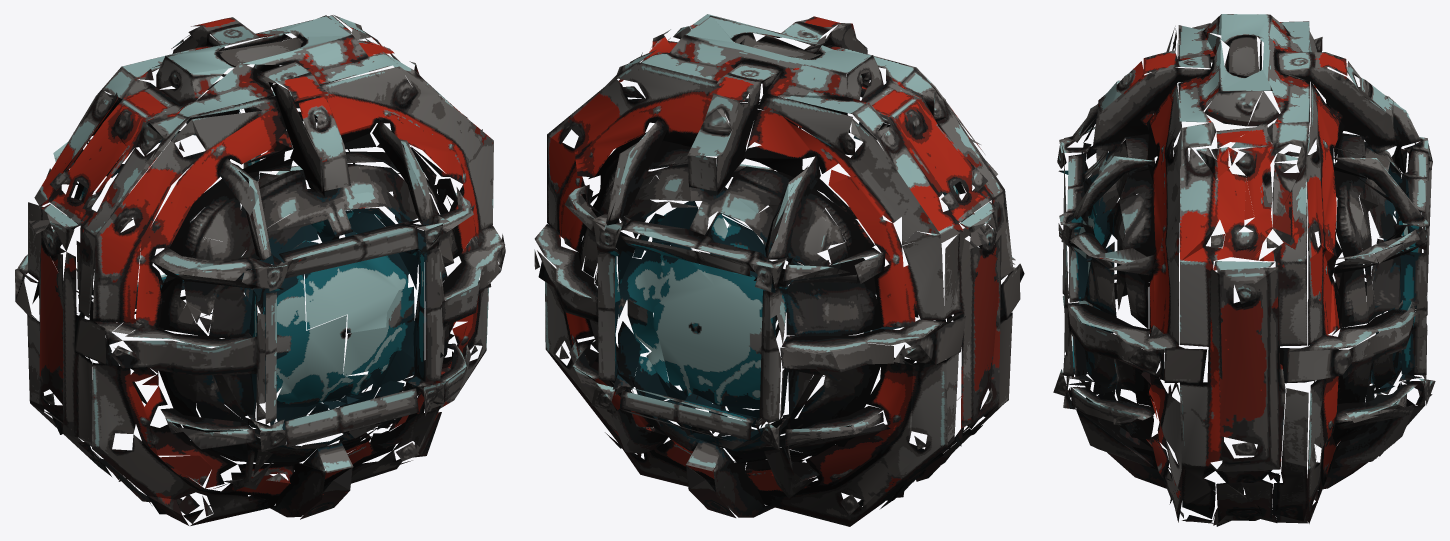
File: co_arc.glb
3 views of the same model, side by side, from view 1: azimuth 30°, elevation 25°; view 2: azimuth 150°, elevation 25°; view 3: azimuth 270°, elevation 25° (orthographic). The views are drawn at different scales.
Parts seen in each view (by area): view 1: co_arc; view 2: co_arc; view 3: co_arc.
Boxes of the visible parts, x1=… form: co_arc: x1=15, y1=15, x2=505, y2=525; co_arc: x1=534, y1=14, x2=1024, y2=526; co_arc: x1=1053, y1=14, x2=1435, y2=526.
Size of the model in its own units: 0.148 by 0.1484 by 0.1167.
Materials: 1 (1 with a texture image).
